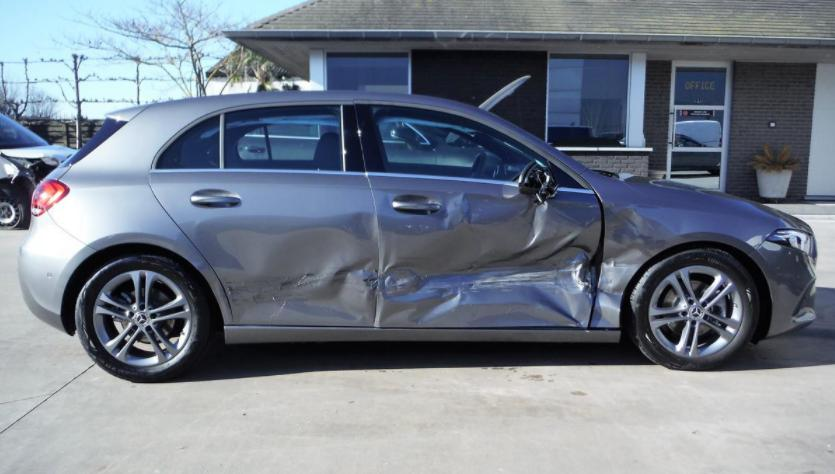Back-bumper: (16, 212, 96, 336)
Back-door: (149, 101, 380, 326)
Back-wheel: (74, 254, 214, 384)
Back-window: (225, 108, 341, 170), (157, 115, 219, 168)
Back-windshield: (58, 116, 128, 167)
Fender: (581, 168, 813, 329)
Front-bumper: (749, 242, 817, 338)
Front-door: (355, 101, 602, 329)
Front-wheel: (625, 247, 759, 370)
Front-window: (343, 104, 587, 189), (370, 109, 532, 182)
Headlight: (766, 229, 817, 262)
Hood: (588, 169, 802, 220)
Mirror: (517, 160, 555, 204)
Quarter-panel: (46, 169, 237, 326)
Rocker-panel: (222, 324, 620, 346)
Roof: (127, 90, 480, 120)
Tail-light: (29, 179, 70, 216)
Trunk: (42, 103, 149, 181)
